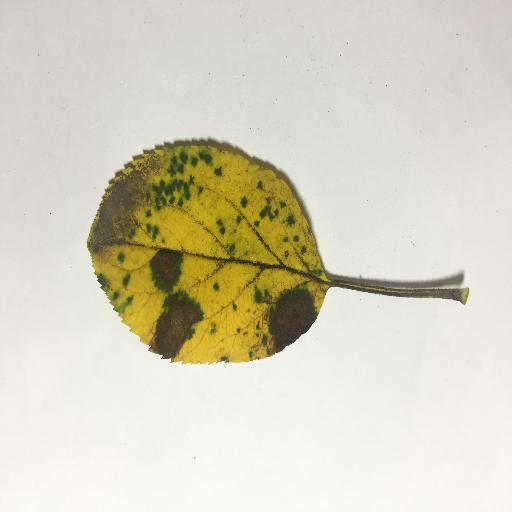Brown_Spot: (95, 161, 160, 239), (264, 287, 311, 348), (247, 196, 306, 242), (160, 153, 209, 200), (160, 298, 195, 355), (145, 248, 184, 287)
